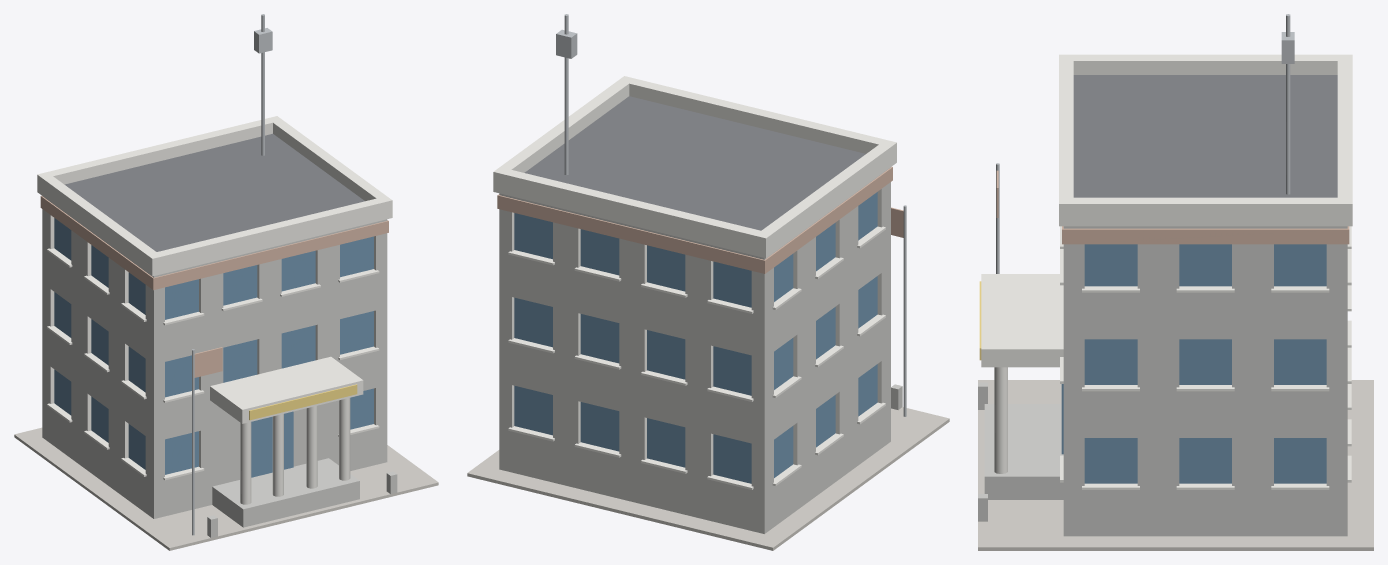
The model's file is police_station.glb.
3 views of the same model, side by side, from view 1: azimuth 30°, elevation 25°; view 2: azimuth 150°, elevation 25°; view 3: azimuth 270°, elevation 25° (orthographic). The views are drawn at different scales.
Visible parts, largest first — view 1: police_station; view 2: police_station; view 3: police_station.
Part boxes in pixels (left/top/right/bottom): police_station: left=14, top=14, right=438, bottom=550; police_station: left=467, top=14, right=949, bottom=550; police_station: left=978, top=14, right=1373, bottom=550.
Size of the model in its own units: 12 by 16.8 by 12.
